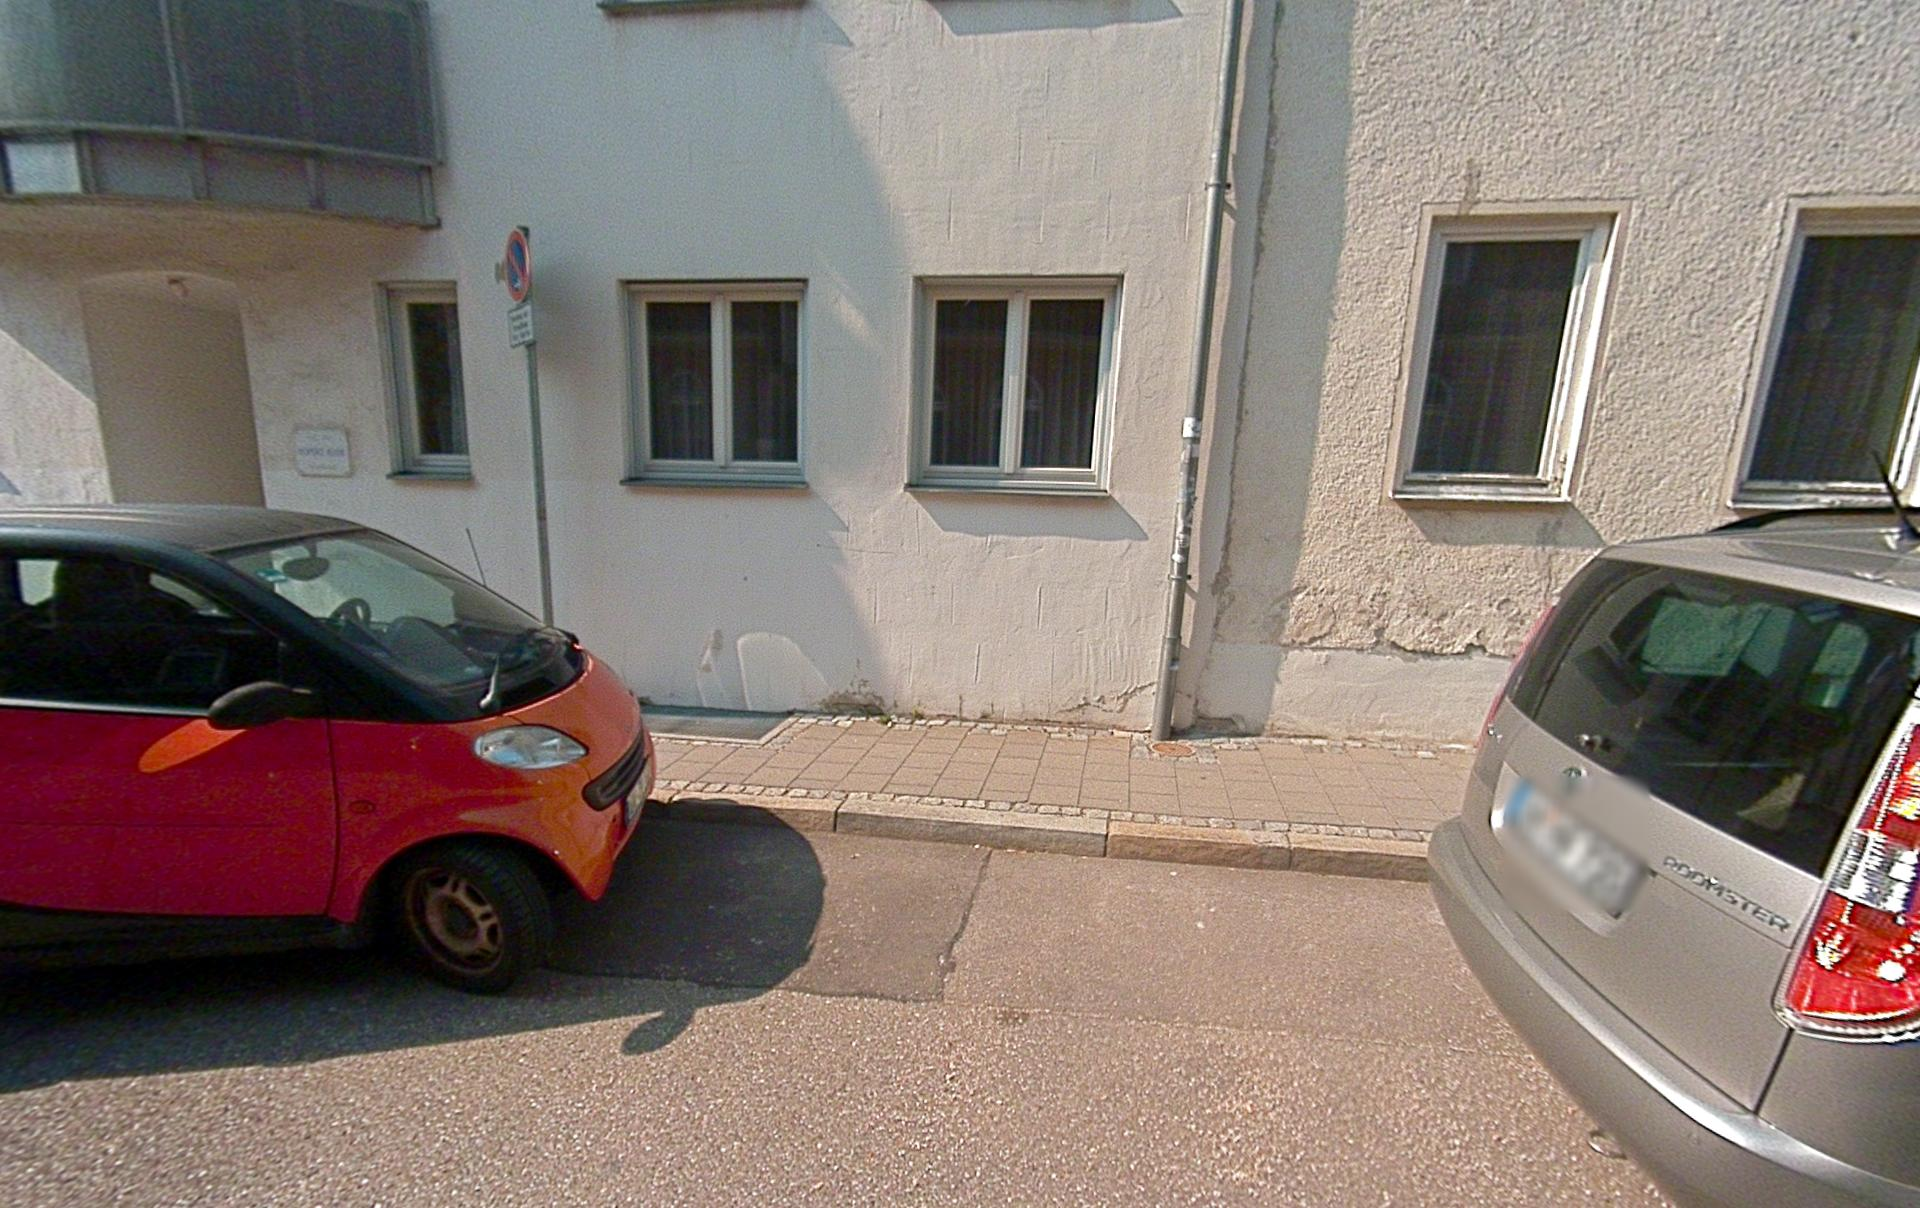car: (1426, 468, 1919, 1207), (0, 500, 657, 995)
traffic sign: (502, 227, 531, 303), (506, 302, 536, 349)
